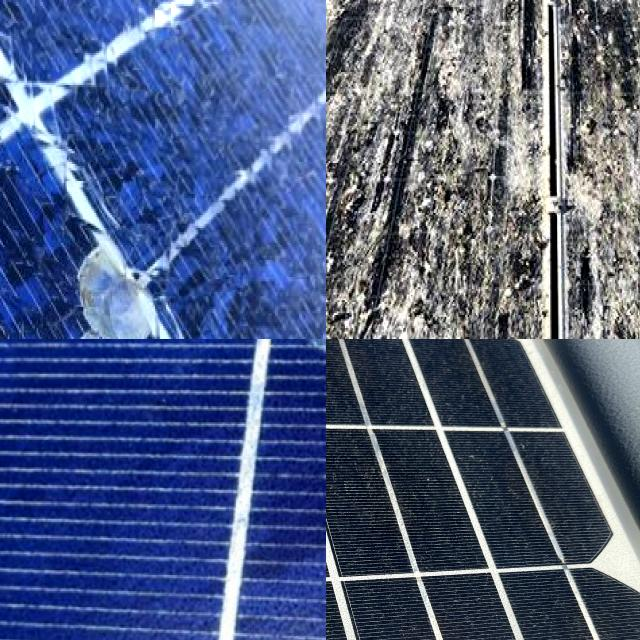bird: (415, 0, 533, 125), (406, 178, 526, 282), (583, 79, 640, 248), (364, 314, 499, 339)
crack: (326, 339, 640, 640)
hotspot: (57, 191, 223, 339)
